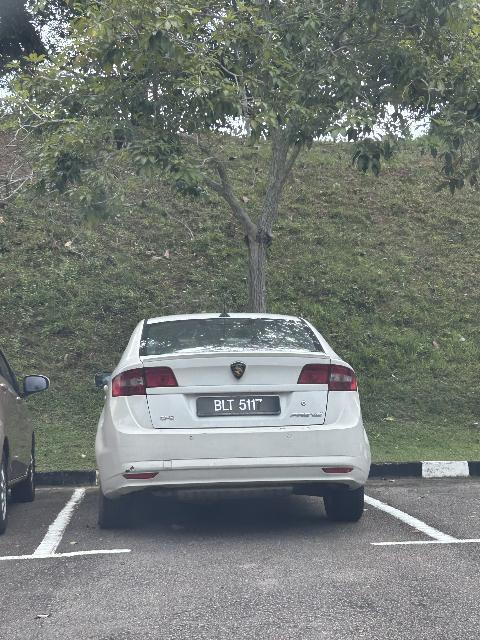BLT511: (199, 394, 282, 419)
License_Plate: (199, 394, 282, 419)
car: (92, 301, 371, 523)
